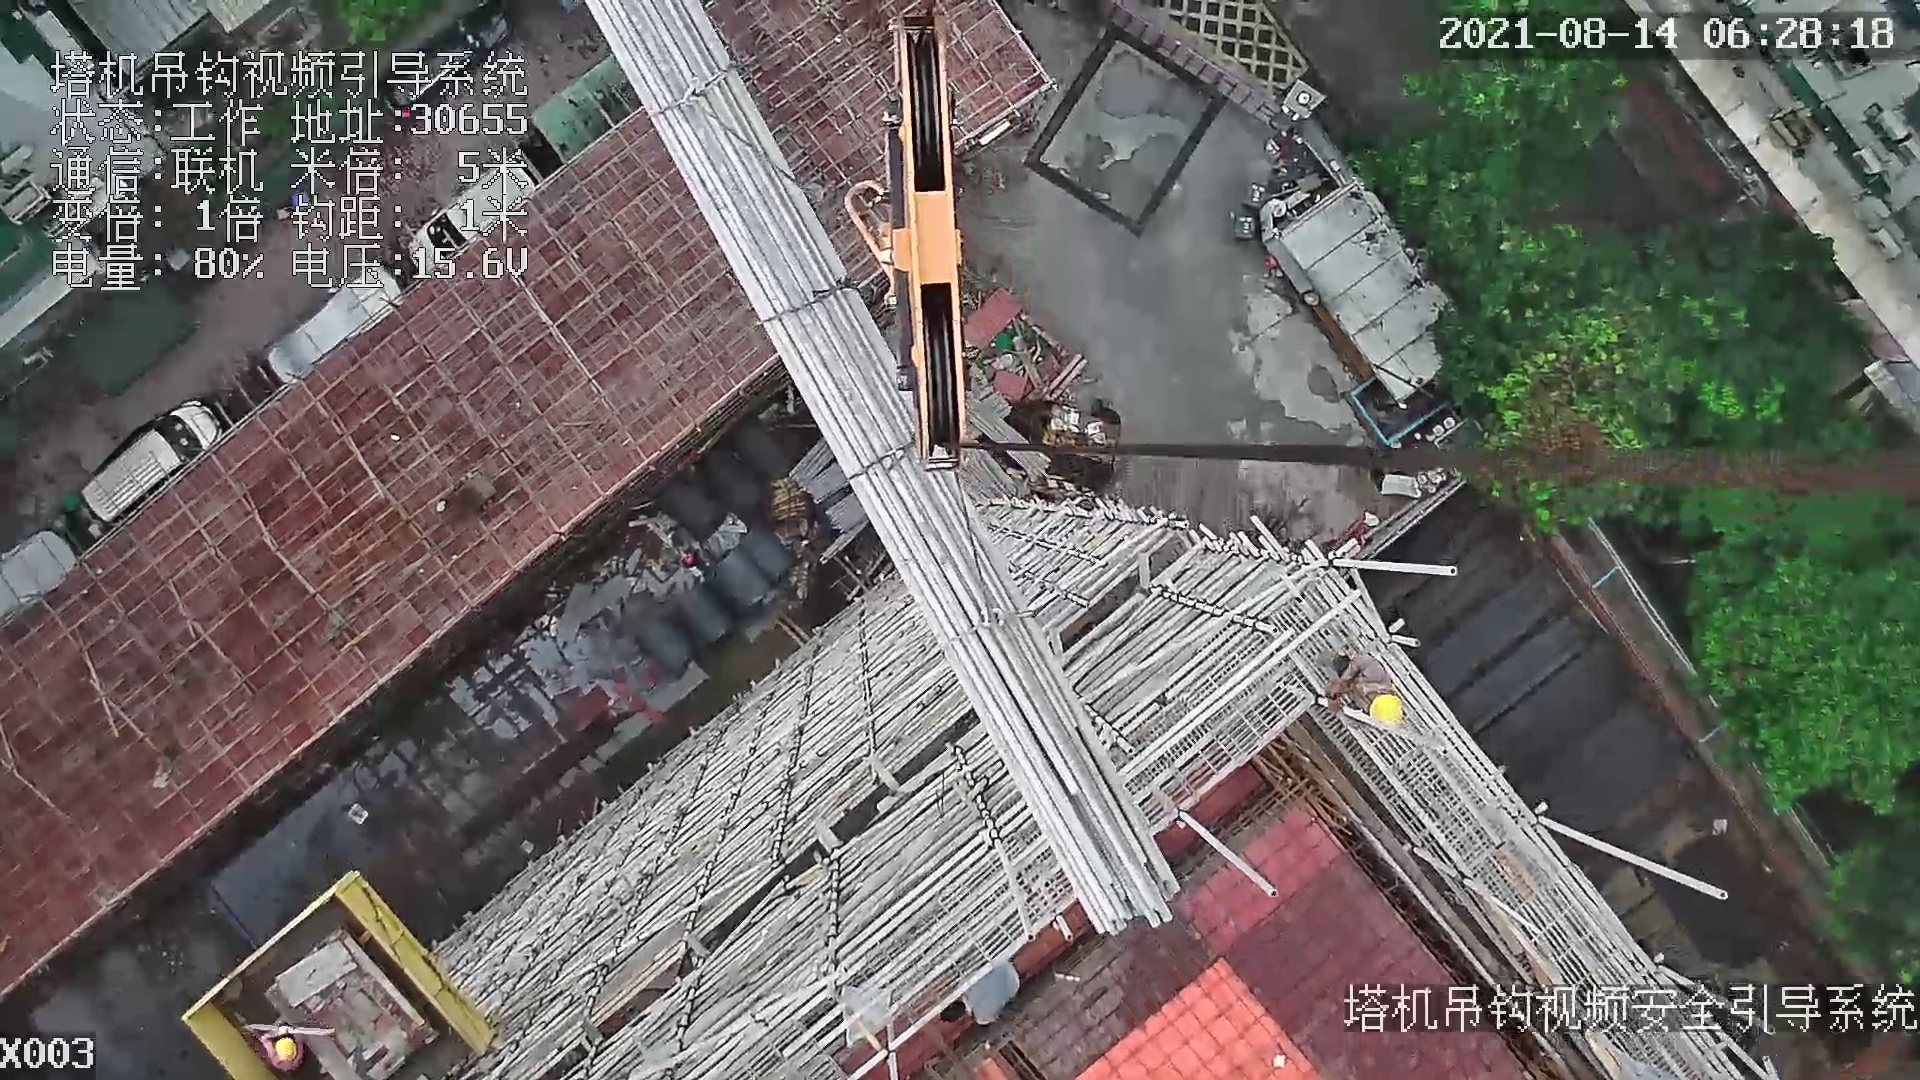helmet: (1368, 691, 1406, 732), (275, 1030, 303, 1067)
hook: (886, 16, 970, 478)
person: (1319, 647, 1409, 727), (256, 1024, 315, 1068)
